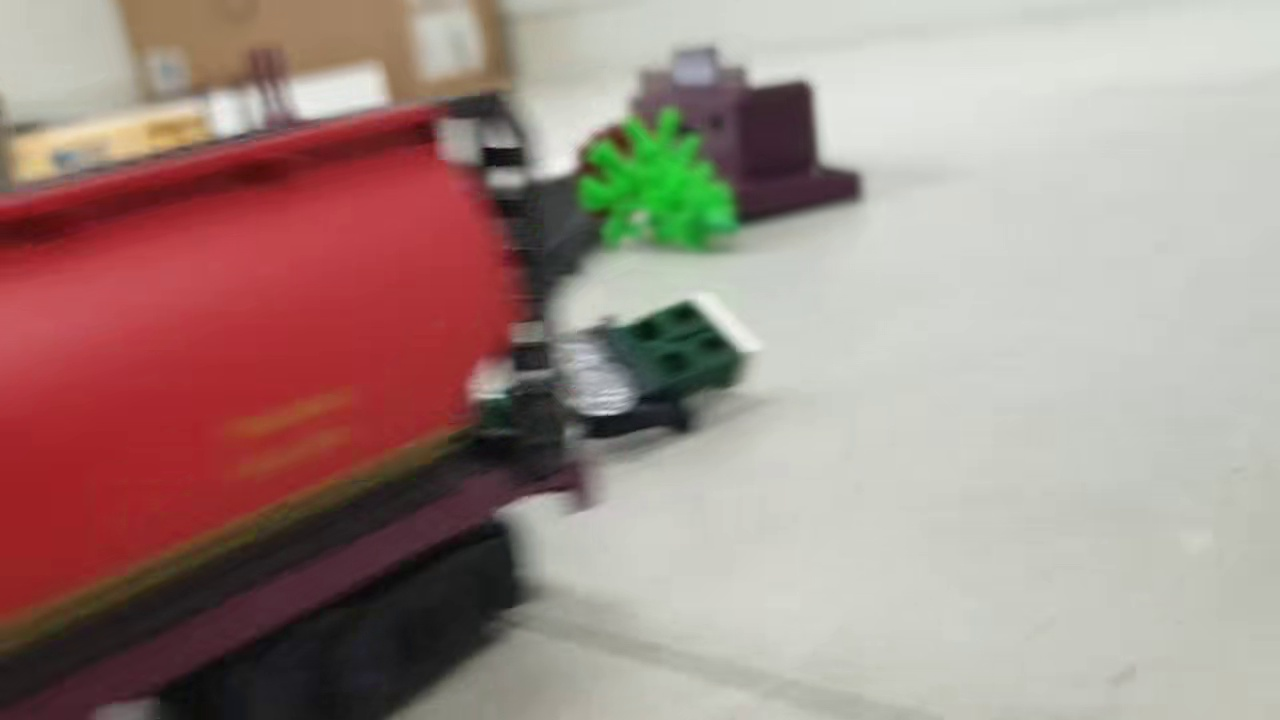people: (549, 299, 762, 444)
tree: (570, 104, 740, 256)
